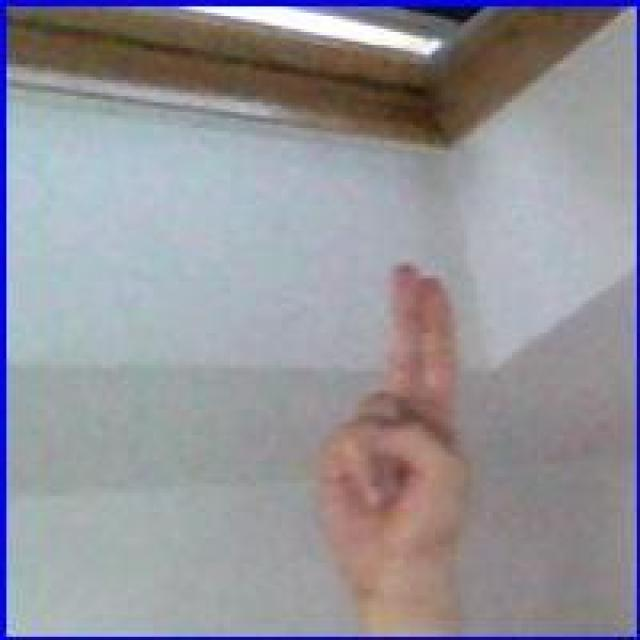U: (316, 250, 474, 579)
